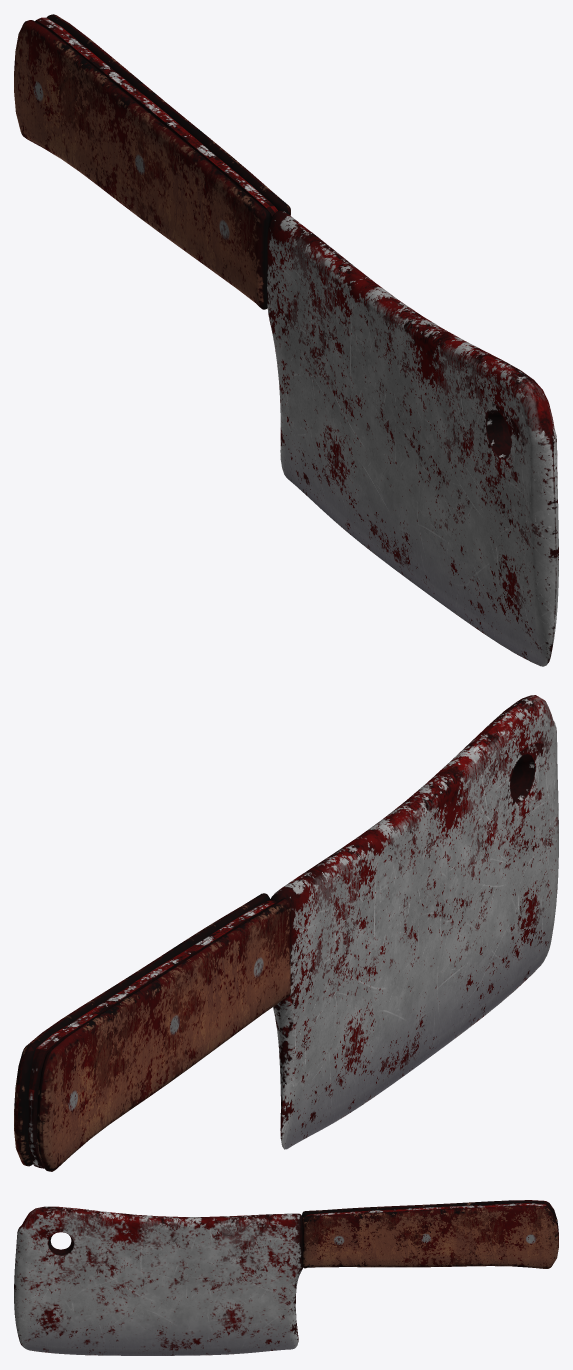
3 views of the same model, one above another, from view 1: azimuth 30°, elevation 25°; view 2: azimuth 150°, elevation 25°; view 3: azimuth 270°, elevation 25° (orthographic). The views are drawn at different scales.
Visible parts, largest first — view 1: Demir, Kulp; view 2: Demir, Kulp; view 3: Demir, Kulp.
Part boxes in pixels (bbox=[...]): Demir: bbox=[35, 17, 558, 666]; Kulp: bbox=[14, 14, 290, 309]; Demir: bbox=[28, 695, 558, 1168]; Kulp: bbox=[14, 893, 290, 1171]; Demir: bbox=[14, 1202, 552, 1355]; Kulp: bbox=[302, 1200, 558, 1268].
Size of the model in its own units: 14.38 by 117 by 378.
1 material, 1 textured.
